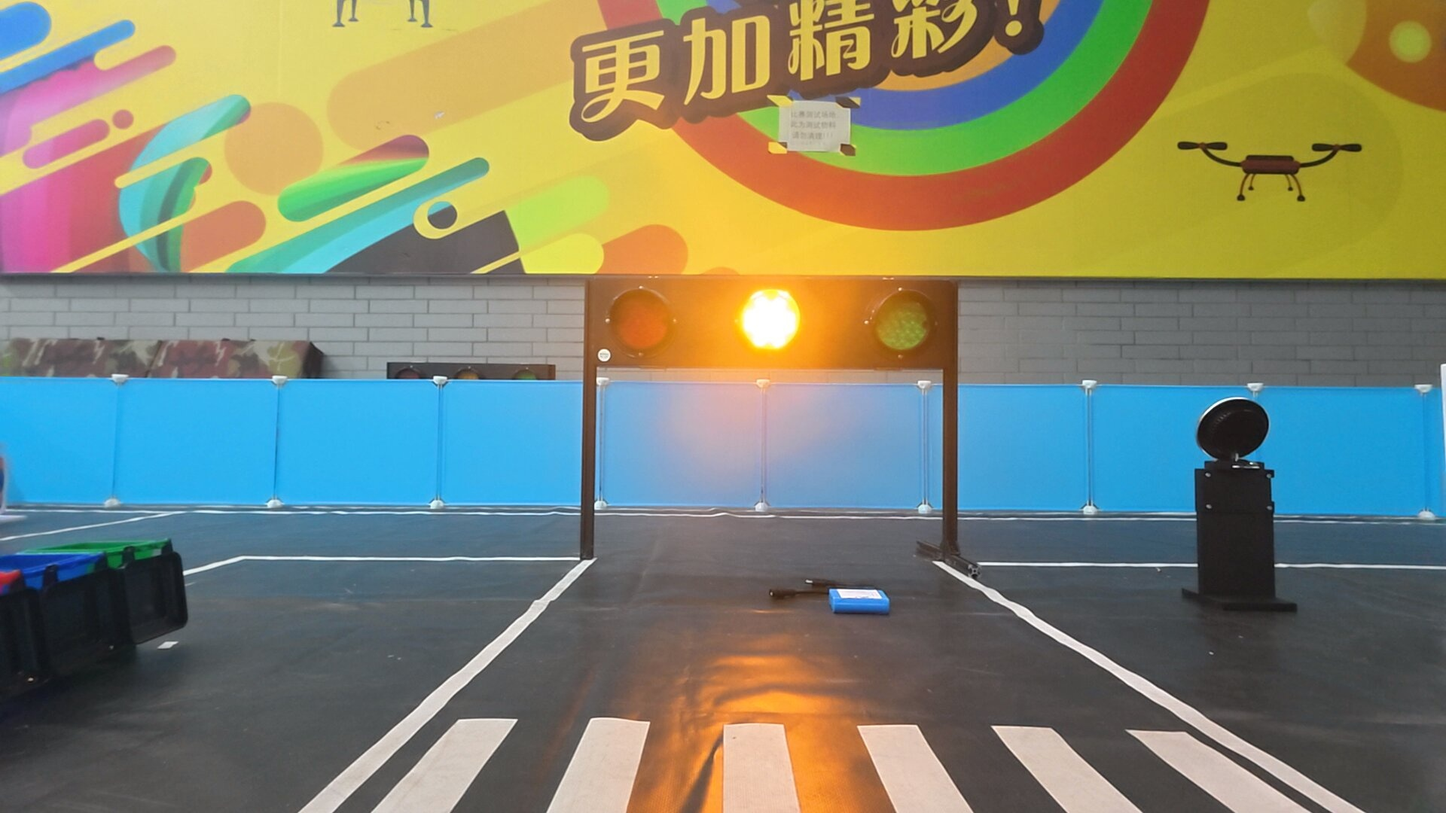stop: (735, 286, 805, 352)
